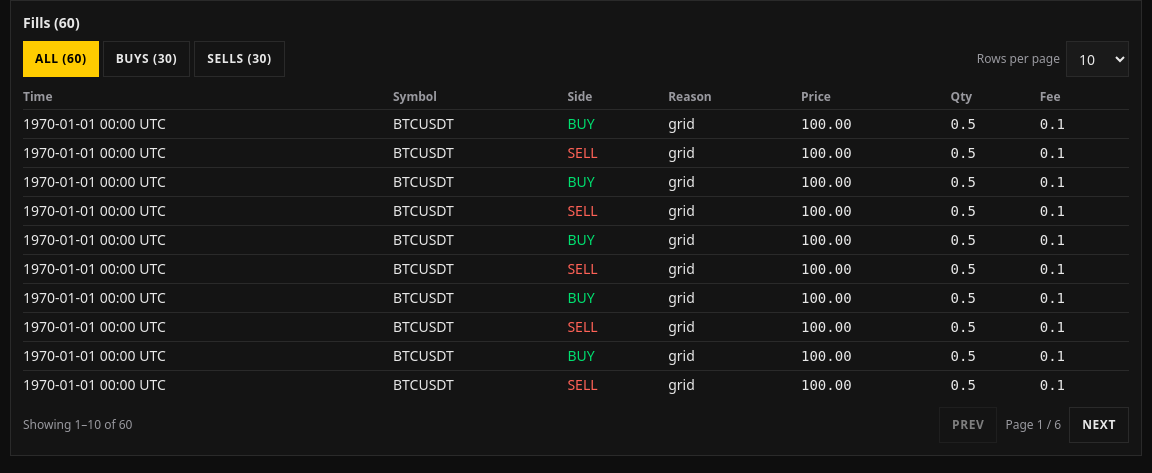
BacktestFills pagination + filter › filters the table by side, resetting the page
Note: 60 alternating fills → 30 buys, 30 sells.
Click the button with test id "bt-fills-next" at point(1099, 425), box [1069, 407, 1129, 443]
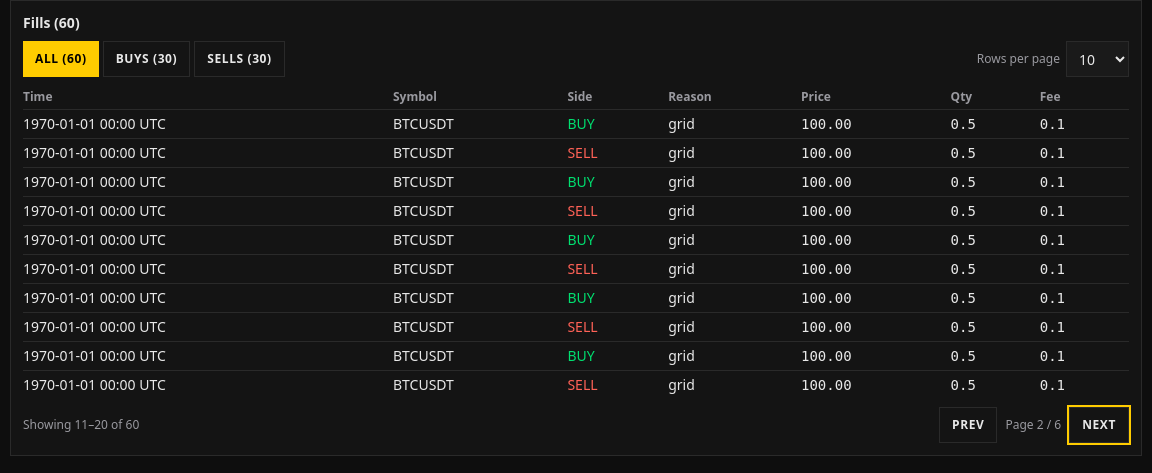
Click the button with test id "bt-fills-filter-sells" at point(240, 59), box [194, 41, 285, 77]
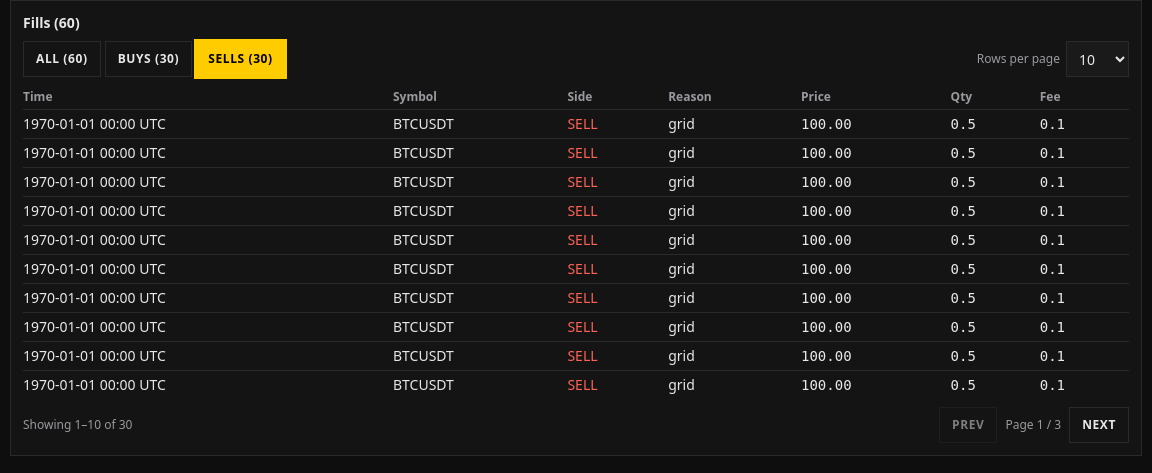
Expected: the text with test id "bt-fills-range" reads "Showing 1–10 of 30", [23, 416, 132, 433]
